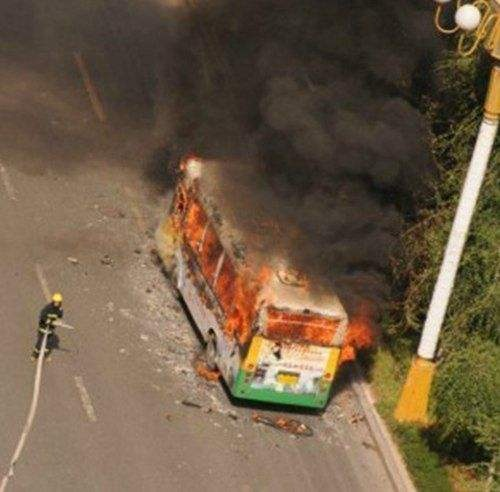fire: (164, 155, 371, 413)
